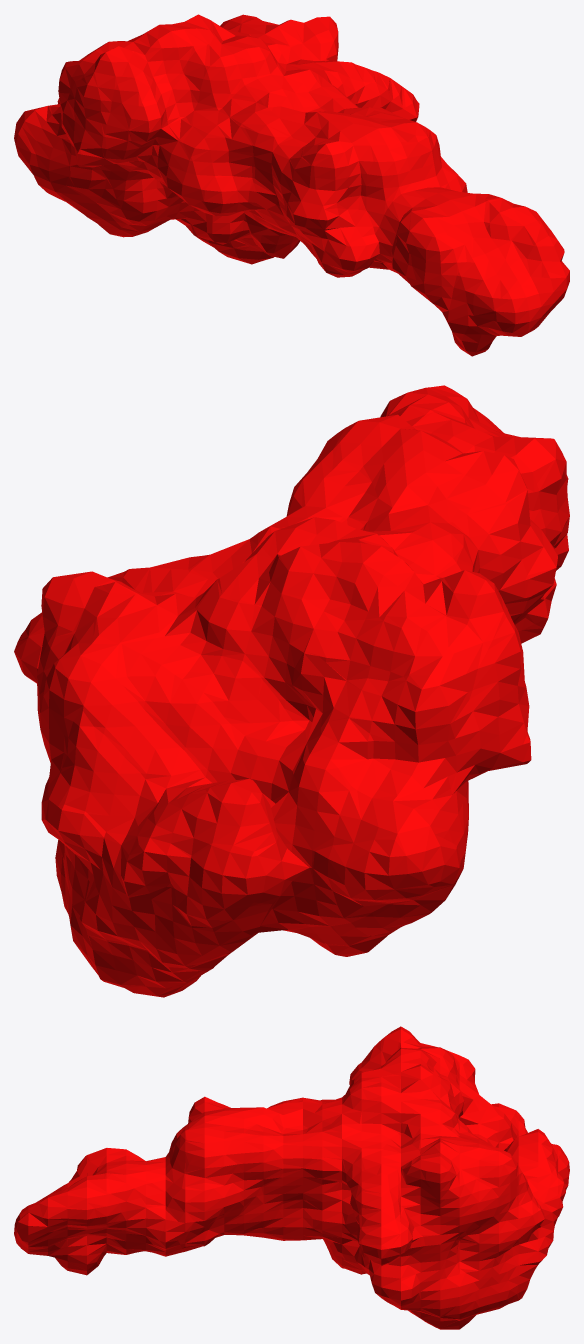
File: Guanine_nucleotide_binding_pro_coarse.dae
The picture shows the model from 3 angles, top to bottom: view 1: azimuth 30°, elevation 25°; view 2: azimuth 150°, elevation 25°; view 3: azimuth 270°, elevation 25°; orthographic projection. The views are drawn at different scales.
Parts seen in each view (by area): view 1: Guanine_nucleotide_binding_pro; view 2: Guanine_nucleotide_binding_pro; view 3: Guanine_nucleotide_binding_pro.
Boxes of the visible parts, <box> form: Guanine_nucleotide_binding_pro: <box>14,14,569,356</box>; Guanine_nucleotide_binding_pro: <box>14,385,569,997</box>; Guanine_nucleotide_binding_pro: <box>14,1026,569,1329</box>.
Size of the model in its own units: 93.55 by 74.34 by 159.
